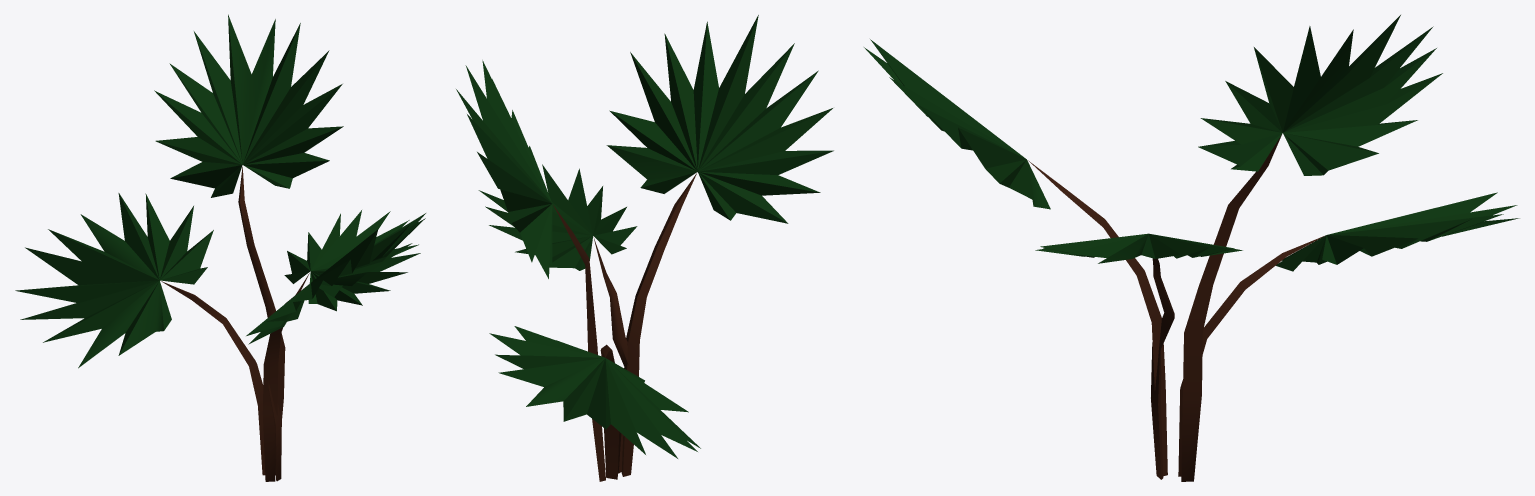
The model's file is SM_SmallPalm_01_001.obj.
3 renders of one model, left to right at view 1: azimuth 30°, elevation 25°; view 2: azimuth 150°, elevation 25°; view 3: azimuth 270°, elevation 25°, orthographic. The views are drawn at different scales.
Visible parts, largest first — view 1: SM_SmallPalm_01.001; view 2: SM_SmallPalm_01.001; view 3: SM_SmallPalm_01.001.
Part boxes in pixels (box(x1,y1,x2,y2)): SM_SmallPalm_01.001: box(15, 14, 425, 481); SM_SmallPalm_01.001: box(456, 15, 833, 481); SM_SmallPalm_01.001: box(864, 15, 1519, 481).
Bounding box in the file's own units: 1.18 × 1.6 × 1.89.
